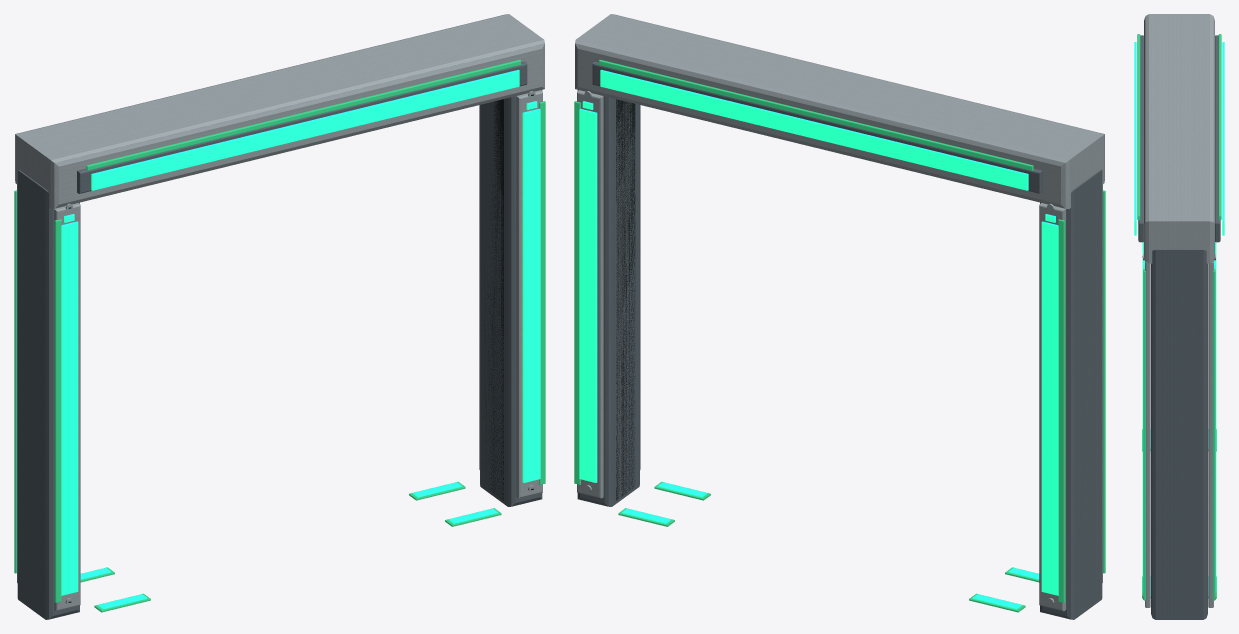
The model's file is genesis-green-airlock.glb.
3 views of the same model, side by side, from view 1: azimuth 30°, elevation 25°; view 2: azimuth 150°, elevation 25°; view 3: azimuth 270°, elevation 25° (orthographic). The views are drawn at different scales.
Parts seen in each view (by area): view 1: green-airlock__titanium, green-airlock__graphite, green-airlock__green, green-airlock__reflection, green-airlock__rubber; view 2: green-airlock__titanium, green-airlock__graphite, green-airlock__green, green-airlock__reflection, green-airlock__rubber; view 3: green-airlock__graphite, green-airlock__titanium, green-airlock__reflection, green-airlock__green.
Part boxes in pixels (left/top/right/bottom): green-airlock__titanium: left=15, top=14, right=544, bottom=611; green-airlock__graphite: left=17, top=61, right=542, bottom=619; green-airlock__green: left=61, top=69, right=540, bottom=609; green-airlock__reflection: left=14, top=59, right=545, bottom=612; green-airlock__rubber: left=68, top=94, right=533, bottom=602; green-airlock__titanium: left=575, top=14, right=1104, bottom=611; green-airlock__graphite: left=577, top=61, right=1102, bottom=619; green-airlock__green: left=579, top=69, right=1058, bottom=609; green-airlock__reflection: left=574, top=59, right=1105, bottom=612; green-airlock__rubber: left=616, top=99, right=635, bottom=500; green-airlock__graphite: left=1138, top=35, right=1220, bottom=619; green-airlock__titanium: left=1143, top=14, right=1215, bottom=607; green-airlock__reflection: left=1137, top=34, right=1221, bottom=600; green-airlock__green: left=1134, top=42, right=1224, bottom=595.
Bounding box in the file's own units: 3.82 × 3.4 × 0.701.
5 materials, 3 textured.
